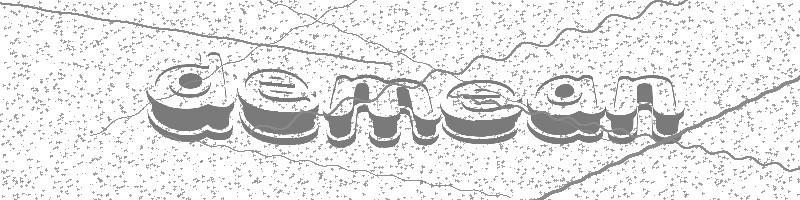a: (527, 75, 606, 144)
d: (148, 52, 236, 141)
e: (237, 69, 320, 145), (441, 80, 522, 144)
m: (323, 75, 442, 148)
n: (605, 75, 685, 144)
